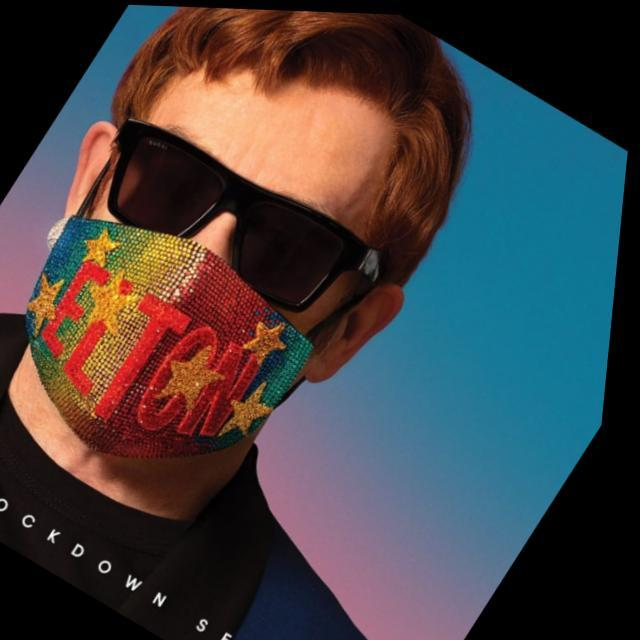Nonhelmet: (10, 0, 478, 484)
